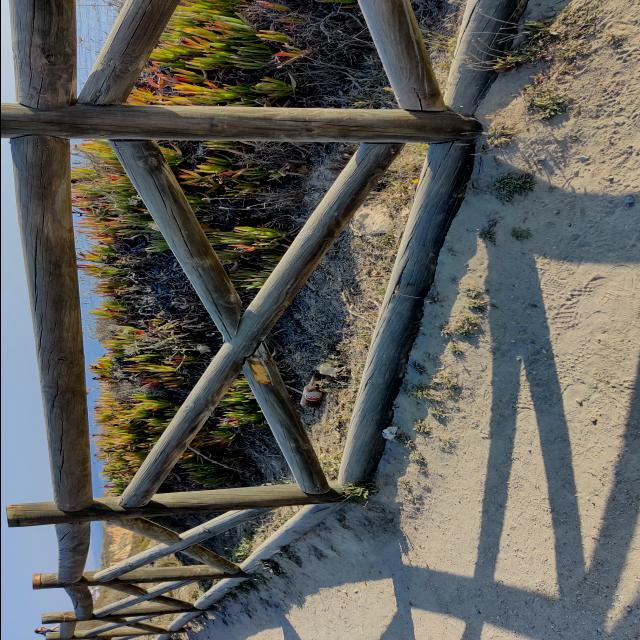Glass bottle: (299, 374, 323, 407)
Tissues: (315, 363, 343, 375), (381, 427, 397, 441)
